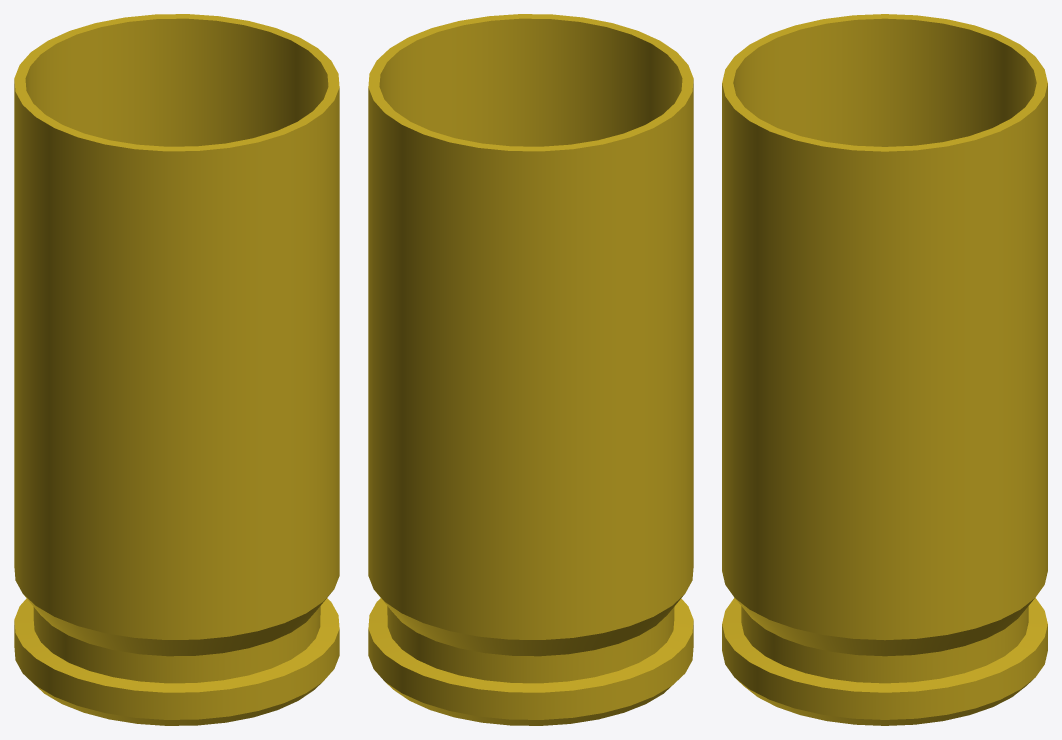
The model's file is 9mm_shell.fbx.
3 renders of one model, left to right at view 1: azimuth 30°, elevation 25°; view 2: azimuth 150°, elevation 25°; view 3: azimuth 270°, elevation 25°, orthographic.
Visible parts, largest first — view 1: Cylinder.001; view 2: Cylinder.001; view 3: Cylinder.001.
Part boxes in pixels (x1,y1,x2,y2): Cylinder.001: (14,14,339,725); Cylinder.001: (368,14,693,725); Cylinder.001: (722,14,1047,725).
Bounding box in the file's own units: 1.06 × 2.07 × 1.06.
